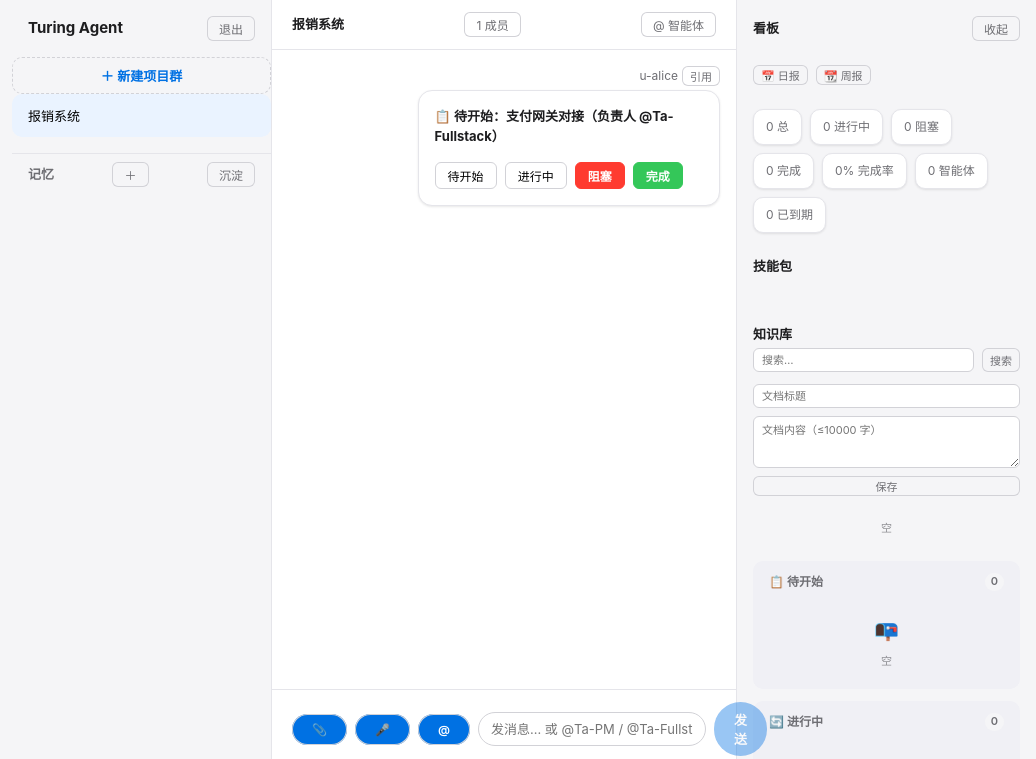
Test case: Chat › renders a task card with status buttons
Check: the text "📋 待开始：支付网关对接（负责人 @Ta-Fullstack）" is shown, box [435, 107, 703, 146]
Click the button "进行中" at (536, 176), box [505, 162, 567, 189]
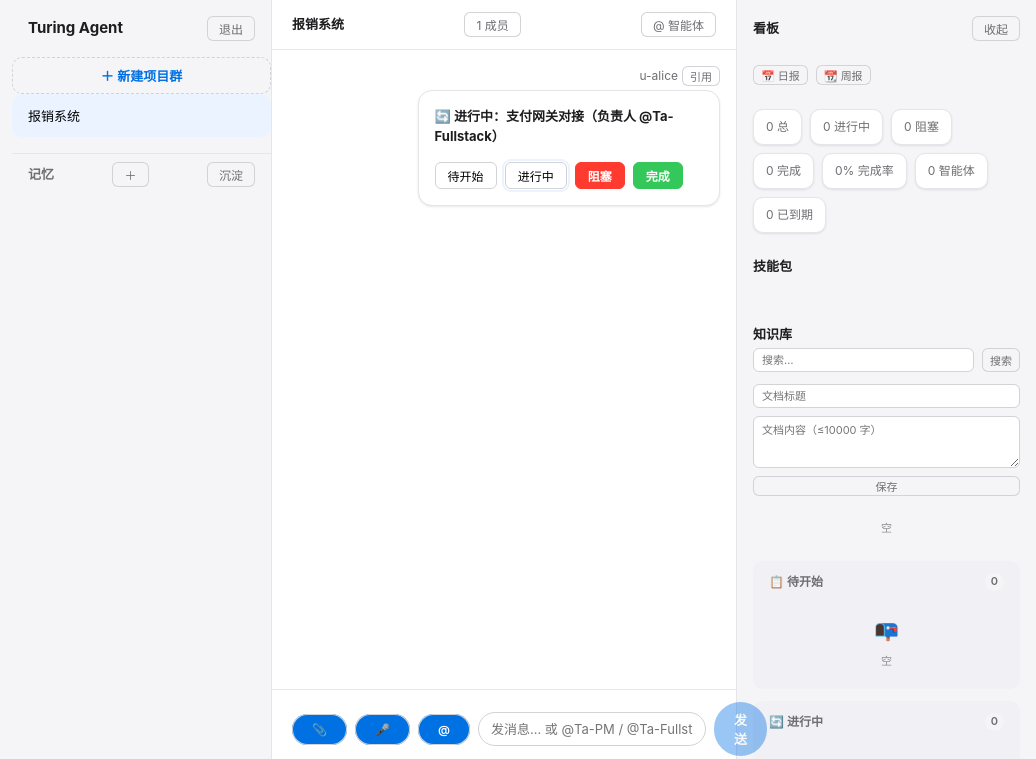
Check: the text "🔄 进行中：支付网关对接（负责人 @Ta-Fullstack）" is shown, box [435, 107, 703, 146]
